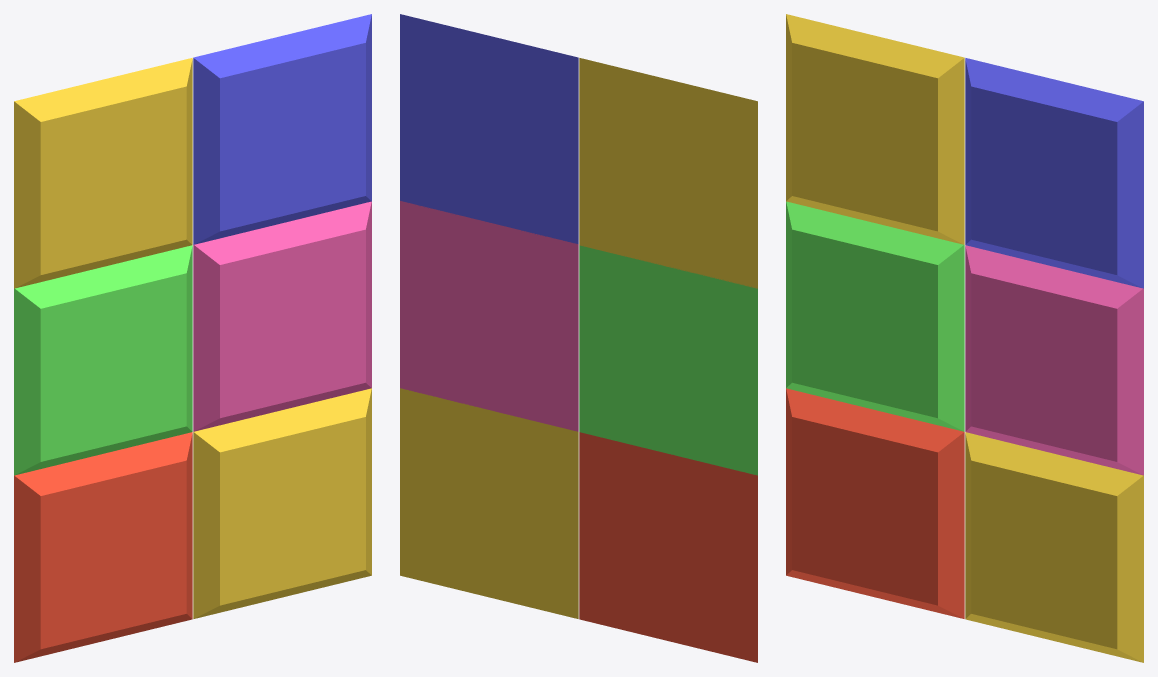
File: button_group.fbx
3 views of the same model, side by side, from view 1: azimuth 30°, elevation 25°; view 2: azimuth 150°, elevation 25°; view 3: azimuth 330°, elevation 25° (orthographic).
Visible parts, largest first — view 1: button_group_mesh; view 2: button_group_mesh; view 3: button_group_mesh.
Boxes of the visible parts, bbox=[...] form: button_group_mesh: bbox=[14, 14, 371, 662]; button_group_mesh: bbox=[400, 14, 757, 662]; button_group_mesh: bbox=[786, 14, 1143, 662].
Size of the model in its own units: 20 by 30 by 1.
